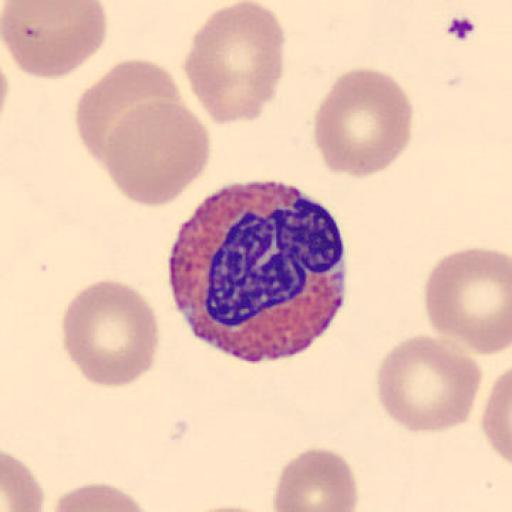RBC: (182, 0, 286, 127), (75, 57, 190, 171), (102, 101, 211, 209), (311, 66, 414, 180), (375, 332, 483, 435), (61, 278, 161, 389), (422, 245, 512, 356), (1, 0, 108, 80), (271, 445, 359, 512), (480, 364, 512, 467), (51, 481, 152, 512), (0, 450, 44, 512), (184, 503, 275, 512)
WBC: (165, 176, 348, 362)
